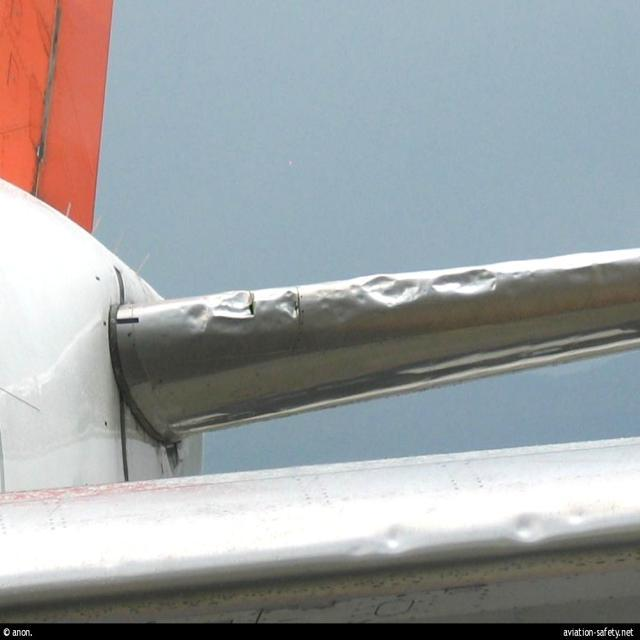dent: (360, 267, 428, 312), (349, 521, 416, 562), (431, 265, 500, 301), (218, 288, 257, 327), (506, 509, 547, 542), (277, 291, 306, 325), (186, 301, 213, 335)
